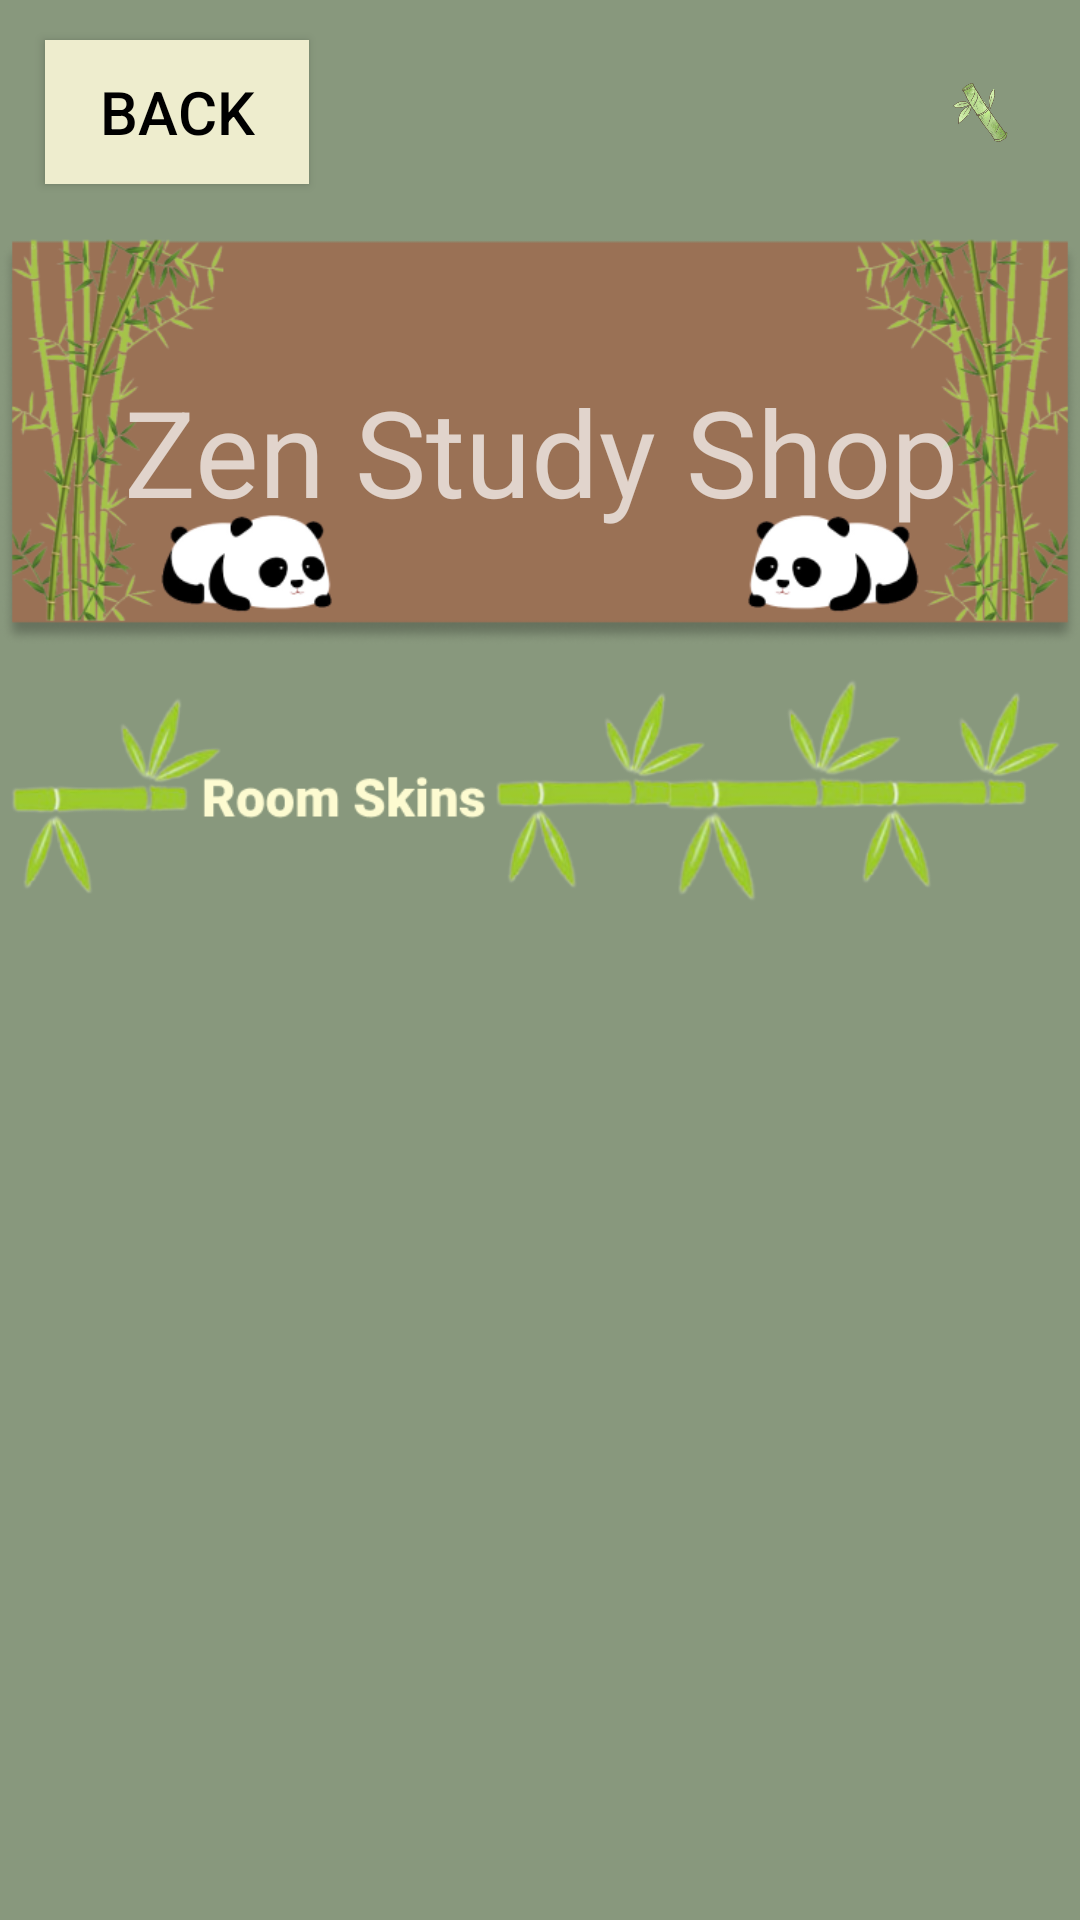

Screen size 1080w x 1920h. Icon name, then its center in pixels as [x,y]:
bamboo icon: [980,112]
